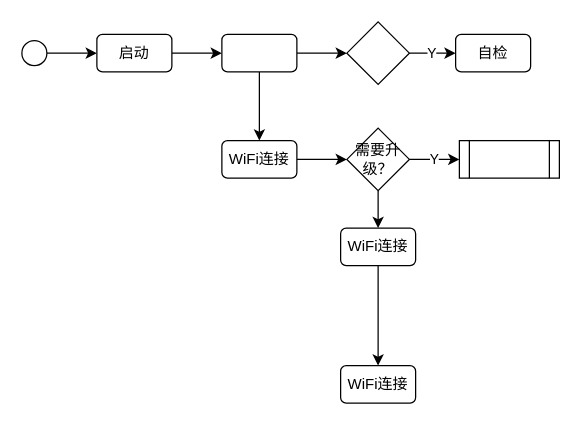
This 581x425 diagram has some shape labels left out. Here are the shapes that lost their labels. From the top down, the centre of each, then its label:
the point at 259,52: WiFi设置 （AP）
the point at 377,52: 已配置模型？
the point at 508,158: 升级流程
